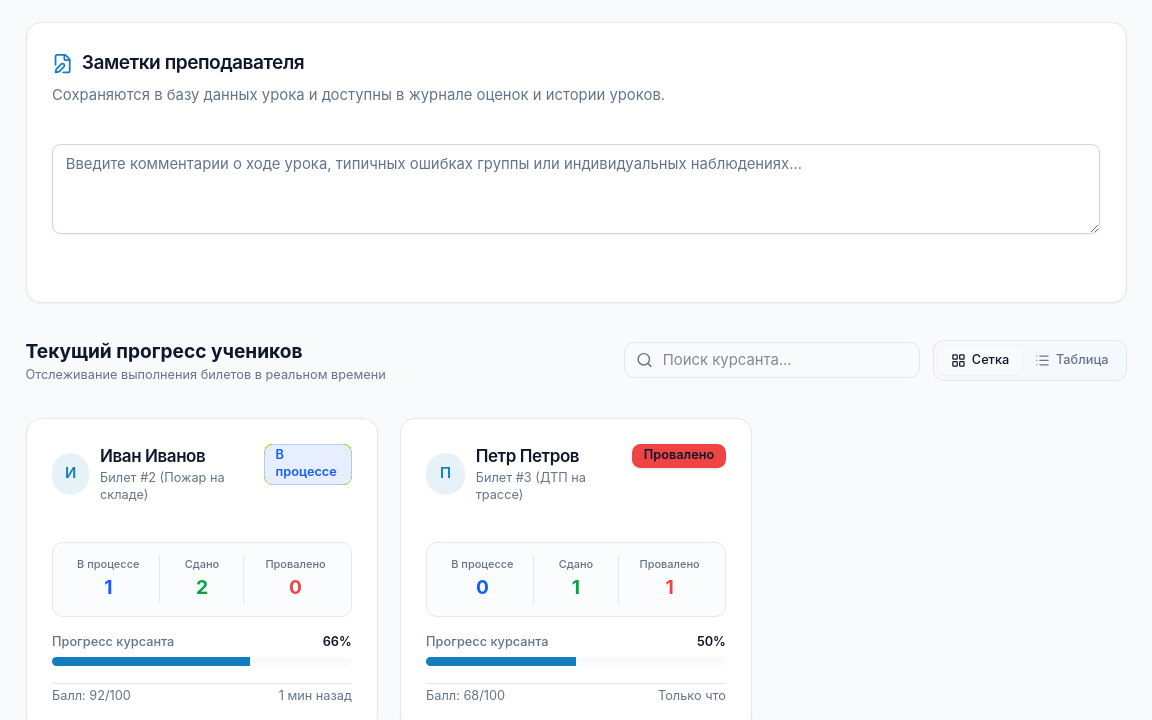
Scenario: 27.4: Live Dashboard › should filter cadets by search query
This screenshot has width=1152, height=720.
(page scrolled)
Expected: the text "Иван Иванов" is shown, [100, 446, 205, 466]
Expected: the text "Петр Петров" is shown, [476, 446, 579, 466]
Type "Иван" into the field with placeholder "Поиск курсанта...". click: (772, 360)
box: [624, 342, 920, 378]
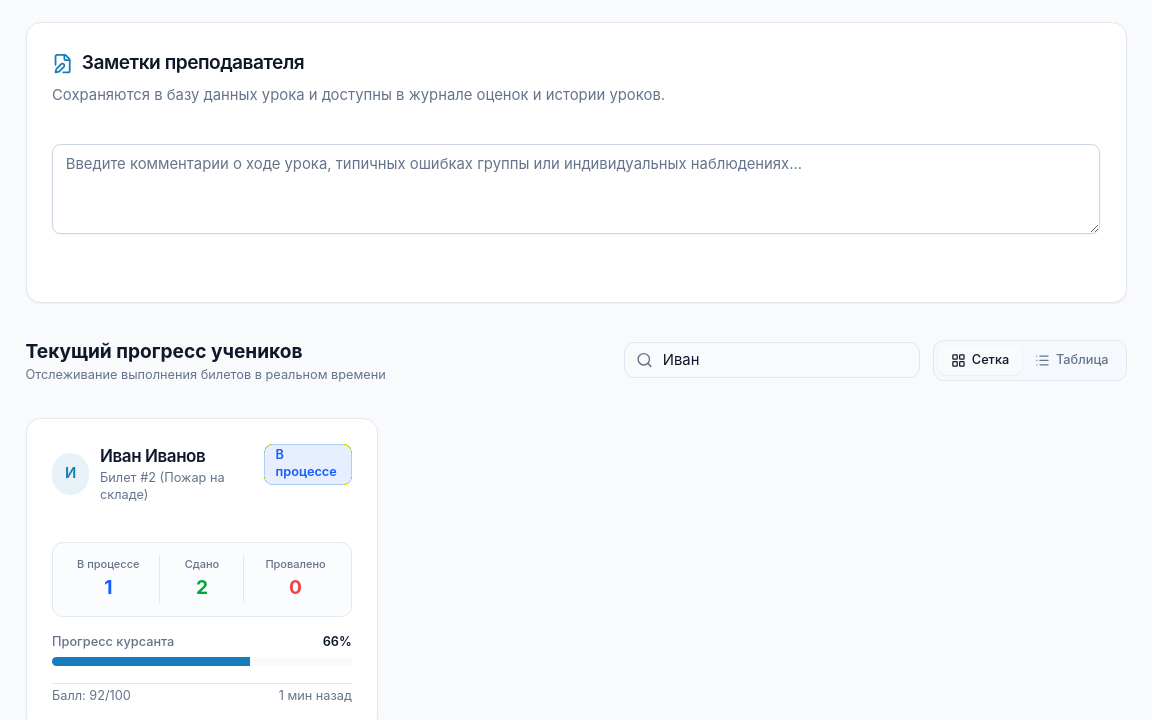
Expected: the text "Иван Иванов" is shown, [100, 446, 205, 466]
Result: the text "Петр Петров" is gone
